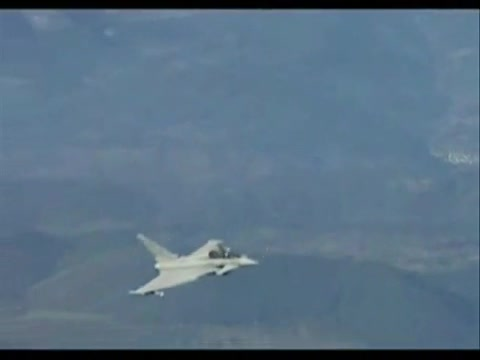aeroplane: (130, 235, 260, 301)
